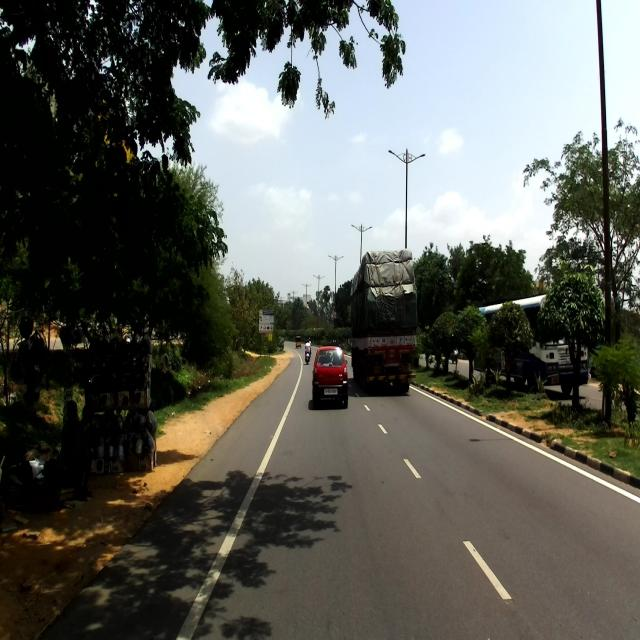bus: (473, 293, 588, 396)
car: (311, 344, 353, 404)
truck: (349, 250, 417, 394)
